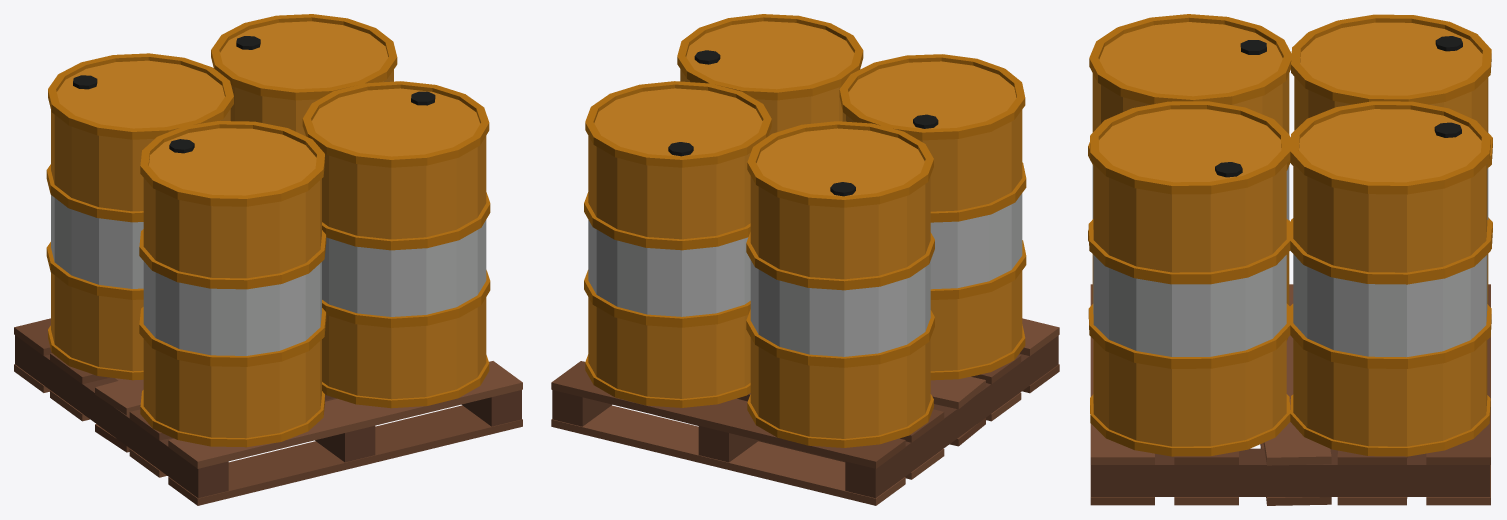
File: SM_Props_Pallet_05.glb
The picture shows the model from 3 angles, left to right: view 1: azimuth 30°, elevation 25°; view 2: azimuth 150°, elevation 25°; view 3: azimuth 270°, elevation 25°; orthographic projection. The views are drawn at different scales.
Visible parts, largest first — view 1: SM_Props_Pallet_05; view 2: SM_Props_Pallet_05; view 3: SM_Props_Pallet_05.
Boxes of the visible parts, x1=… form: SM_Props_Pallet_05: x1=14, y1=14, x2=522, y2=505; SM_Props_Pallet_05: x1=551, y1=14, x2=1059, y2=505; SM_Props_Pallet_05: x1=1088, y1=14, x2=1492, y2=505.
Size of the model in its own units: 1.21 by 1.04 by 1.19.
Materials: 1 (1 with a texture image).
